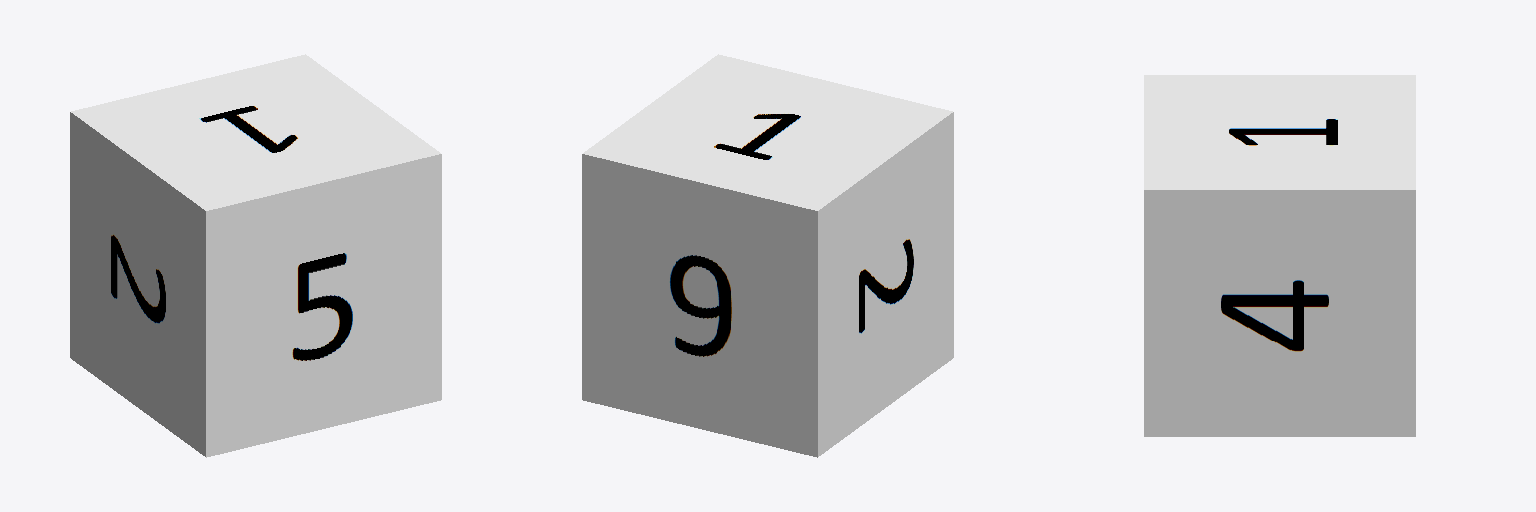
The picture shows the model from 3 angles: view 1: azimuth 30°, elevation 25°; view 2: azimuth 150°, elevation 25°; view 3: azimuth 270°, elevation 25°; orthographic projection.
Visible parts, largest first — view 1: Cube; view 2: Cube; view 3: Cube.
Part boxes in pixels (bbox=[...]): Cube: bbox=[70, 54, 441, 457]; Cube: bbox=[582, 54, 953, 457]; Cube: bbox=[1144, 75, 1415, 436].
Bounding box in the file's own units: 2 × 2 × 2.
6 materials, 6 textured.